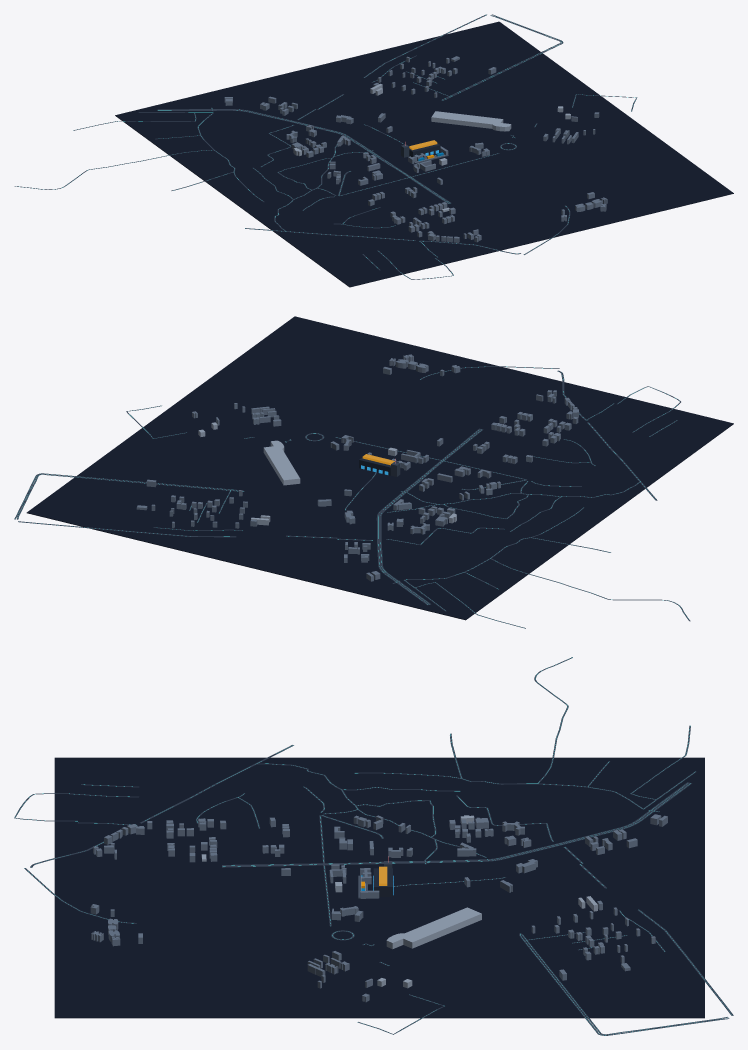
File: facility_panvel.glb
3 views of the same model, one above another, from view 1: azimuth 30°, elevation 25°; view 2: azimuth 150°, elevation 25°; view 3: azimuth 270°, elevation 25° (orthographic). The views are drawn at different scales.
Parts seen in each view (by area): view 1: GroundSlab, Building_113688843, Road_105870373, Road_310384201; view 2: GroundSlab, Building_113688843, Road_310384201, Road_105870373; view 3: GroundSlab, Building_113688843, Road_310384201, Road_105870373.
Boxes of the visible parts, left/top/right/bottom form: GroundSlab: left=115, top=21, right=733, bottom=287; Building_113688843: left=431, top=111, right=511, bottom=131; Road_105870373: left=157, top=109, right=449, bottom=203; Road_310384201: left=157, top=109, right=451, bottom=203; GroundSlab: left=26, top=316, right=733, bottom=620; Building_113688843: left=263, top=440, right=300, bottom=485; Road_310384201: left=376, top=428, right=480, bottom=605; Road_105870373: left=379, top=429, right=483, bottom=604; GroundSlab: left=54, top=757, right=704, bottom=1018; Building_113688843: left=386, top=907, right=481, bottom=949; Road_310384201: left=222, top=783, right=691, bottom=867; Road_105870373: left=222, top=782, right=689, bottom=866.
Size of the model in its own units: 12.47 by 0.32 by 10.02.
